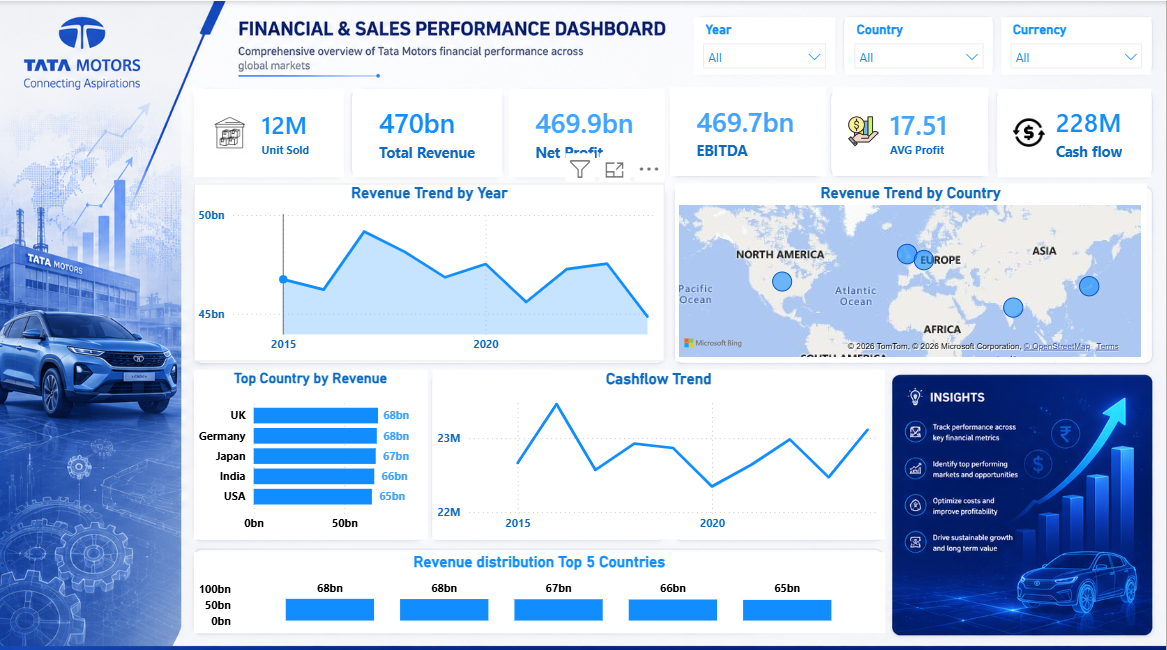

This screenshot's page, from the dashboard's own definition file:
{"tool":"powerbi","page":{"name":"Page 1","canvas":[1280,720],"ordinal":0},"visuals":[{"type":"slicer","fields":{"Values":["tata_car_finance.year"]},"box":[761.6,17.8,155.1,63.1],"z":0},{"type":"slicer","fields":{"Values":["tata_car_finance.country"]},"box":[927.6,17.8,161.9,63.1],"z":1000},{"type":"slicer","fields":{"Values":["tata_car_finance.currency"]},"box":[1099.1,17.8,164.7,63.1],"z":2000},{"type":"cardVisual","fields":{"Data":["Measure Table.Unit Sold"]},"box":[212.7,96.1,164.7,97.4],"z":3000},{"type":"cardVisual","fields":{"Data":["Measure Table.Total Revenue"]},"box":[387,96.1,164.7,97.4],"z":4000},{"type":"cardVisual","fields":{"Data":["Measure Table.Net Profit"]},"box":[558.5,96.1,171.5,97.4],"z":5000},{"type":"cardVisual","fields":{"Data":["Measure Table.EBITDA"]},"box":[735.5,94.7,171.5,97.4],"z":6000},{"type":"cardVisual","fields":{"Data":["Measure Table.AVG Profit margin"]},"box":[913.9,94.7,171.5,97.4],"z":7000},{"type":"cardVisual","fields":{"Data":["Measure Table.Cash flow"]},"box":[1095,96.1,168.8,97.4],"z":8000},{"type":"areaChart","title":"Revenue Trend by Year","fields":{"Category":["tata_car_finance.year"],"Y":["Measure Table.Total Revenue"]},"box":[212.7,200.3,517.3,194.9],"z":9000},{"type":"lineChart","title":"Cashflow Trend","fields":{"Category":["tata_car_finance.year"],"Y":["Sum(tata_car_finance.cash_flow_usd)"]},"box":[474.8,404.8,496.7,186.6],"z":10000},{"type":"clusteredBarChart","title":"Top Country by Revenue","fields":{"Category":["tata_car_finance.country"],"Y":["Measure Table.Total Revenue"]},"box":[212.7,404.8,256.6,186.6],"z":11000},{"type":"columnChart","title":"Revenue distribution Top 5 Countries","fields":{"Category":["tata_car_finance.country"],"Y":["Measure Table.Total Revenue"]},"box":[212.7,605.1,758.8,89.2],"z":12000},{"type":"map","title":"Revenue Trend by Country","fields":{"Size":["Measure Table.Total Revenue"],"Category":["tata_car_finance.country"]},"box":[741,200.3,517.3,194.9],"z":13000}]}

Visuals, with their boxes in screenshot pixels (x1, y1, x2, y2), scaled from the page's 1280x720 canvas onto the 1167x650 screenshot:
slicer - tata_car_finance.year: crop(694, 16, 836, 73)
slicer - tata_car_finance.country: crop(846, 16, 993, 73)
slicer - tata_car_finance.currency: crop(1002, 16, 1152, 73)
cardVisual - Measure Table.Unit Sold: crop(194, 87, 344, 175)
cardVisual - Measure Table.Total Revenue: crop(353, 87, 503, 175)
cardVisual - Measure Table.Net Profit: crop(509, 87, 666, 175)
cardVisual - Measure Table.EBITDA: crop(671, 85, 827, 173)
cardVisual - Measure Table.AVG Profit margin: crop(833, 85, 990, 173)
cardVisual - Measure Table.Cash flow: crop(998, 87, 1152, 175)
"Revenue Trend by Year" areaChart: crop(194, 181, 666, 357)
"Cashflow Trend" lineChart: crop(433, 365, 886, 534)
"Top Country by Revenue" clusteredBarChart: crop(194, 365, 428, 534)
"Revenue distribution Top 5 Countries" columnChart: crop(194, 546, 886, 627)
"Revenue Trend by Country" map: crop(676, 181, 1147, 357)
